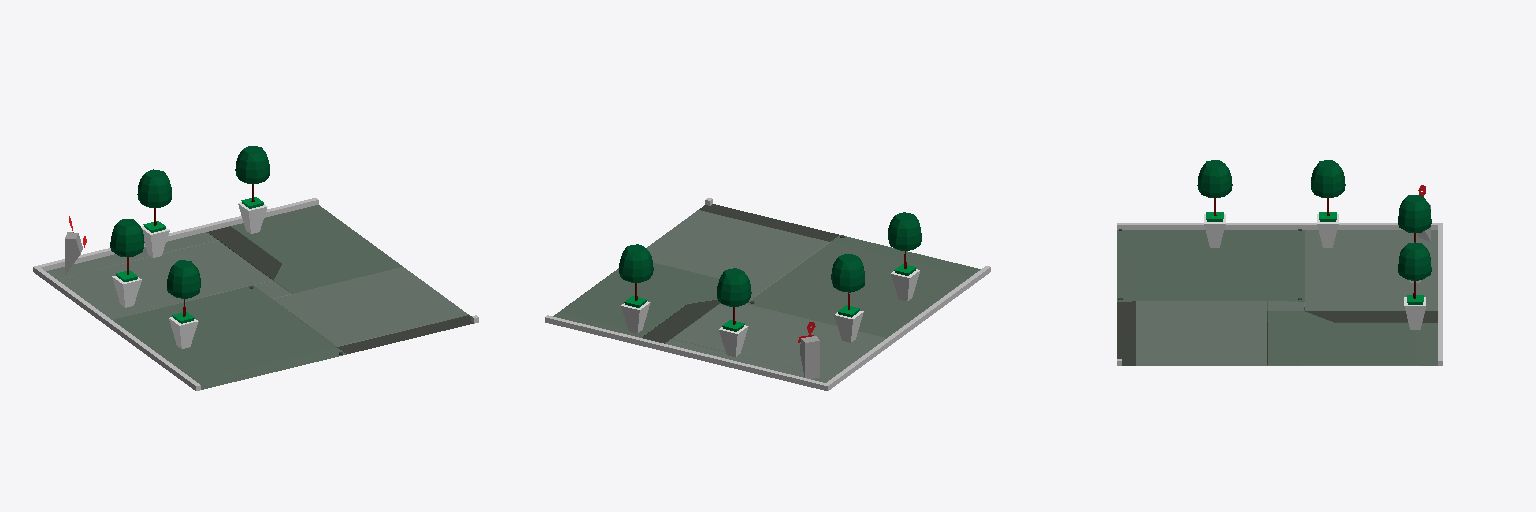
3 renders of one model, left to right at view 1: azimuth 30°, elevation 25°; view 2: azimuth 150°, elevation 25°; view 3: azimuth 270°, elevation 25°, orthographic.
Parts seen in each view (by area): view 1: Scifi_Panel_04_Plaza014_group4.036_Scifi_Panel_04_Plaza014_group, Cube.1034_Cube.1158, base_singlePot03.025_base_singlePot03.029, base_singlePot03.023_base_singlePot03.027, base_singlePot03.022_base_singlePot03.026, base_singlePot03.024_base_singlePot03.028, panel.010_panel.017; view 2: Scifi_Panel_04_Plaza014_group4.036_Scifi_Panel_04_Plaza014_group, Cube.1034_Cube.1158, base_singlePot03.025_base_singlePot03.029, base_singlePot03.024_base_singlePot03.028, base_singlePot03.022_base_singlePot03.026, base_singlePot03.023_base_singlePot03.027, panel.010_panel.017; view 3: Scifi_Panel_04_Plaza014_group4.036_Scifi_Panel_04_Plaza014_group, Cube.1034_Cube.1158, base_singlePot03.023_base_singlePot03.027, base_singlePot03.022_base_singlePot03.026, base_singlePot03.025_base_singlePot03.029, base_singlePot03.024_base_singlePot03.028.
Part boxes in pixels (left/top/right/bottom): Scifi_Panel_04_Plaza014_group4.036_Scifi_Panel_04_Plaza014_group: left=46, top=205, right=473, bottom=389; Cube.1034_Cube.1158: left=33, top=198, right=318, bottom=390; base_singlePot03.025_base_singlePot03.029: left=235, top=146, right=269, bottom=233; base_singlePot03.023_base_singlePot03.027: left=167, top=260, right=200, bottom=348; base_singlePot03.022_base_singlePot03.026: left=110, top=219, right=144, bottom=307; base_singlePot03.024_base_singlePot03.028: left=137, top=169, right=171, bottom=257; panel.010_panel.017: left=65, top=216, right=86, bottom=274; Scifi_Panel_04_Plaza014_group4.036_Scifi_Panel_04_Plaza014_group: left=553, top=204, right=980, bottom=382; Cube.1034_Cube.1158: left=545, top=266, right=990, bottom=390; base_singlePot03.025_base_singlePot03.029: left=619, top=244, right=653, bottom=332; base_singlePot03.024_base_singlePot03.028: left=717, top=268, right=751, bottom=356; base_singlePot03.022_base_singlePot03.026: left=831, top=254, right=864, bottom=342; base_singlePot03.023_base_singlePot03.027: left=888, top=212, right=921, bottom=300; panel.010_panel.017: left=798, top=322, right=819, bottom=378; Scifi_Panel_04_Plaza014_group4.036_Scifi_Panel_04_Plaza014_group: left=1117, top=229, right=1437, bottom=365; Cube.1034_Cube.1158: left=1117, top=223, right=1442, bottom=365; base_singlePot03.023_base_singlePot03.027: left=1197, top=160, right=1232, bottom=247; base_singlePot03.022_base_singlePot03.026: left=1311, top=160, right=1345, bottom=247; base_singlePot03.025_base_singlePot03.029: left=1398, top=242, right=1431, bottom=329; base_singlePot03.024_base_singlePot03.028: left=1398, top=195, right=1431, bottom=282.
Size of the model in its own units: 10 by 2.78 by 10.